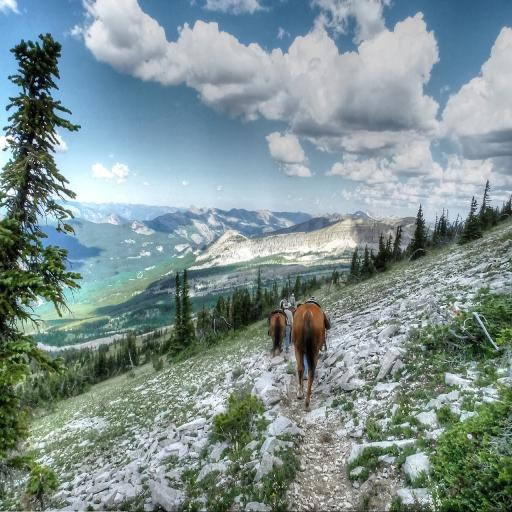Horse: (292, 299, 324, 411), (268, 312, 286, 353)
